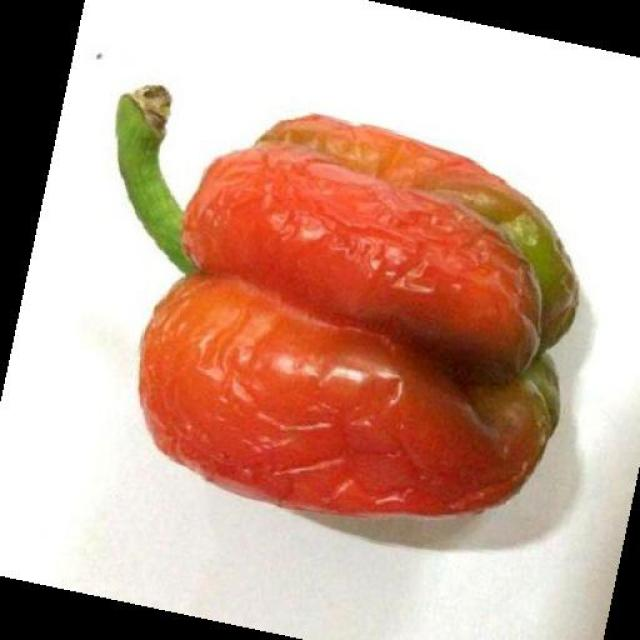Stale_Capsicum: (111, 44, 576, 540)
